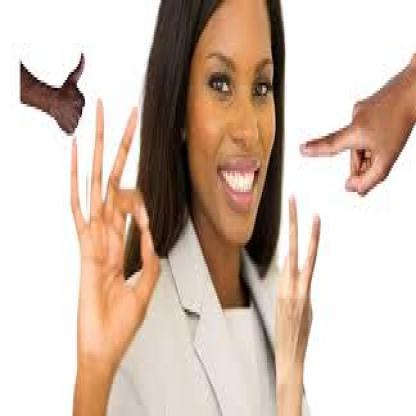ok: (69, 89, 163, 370)
